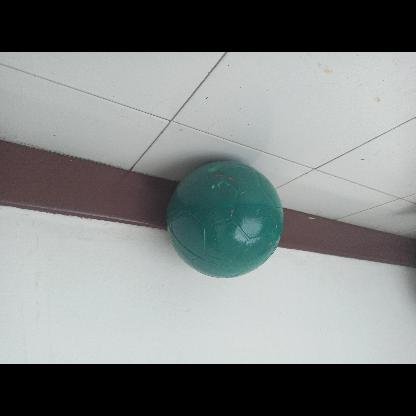green_ball: (165, 160, 283, 278)
